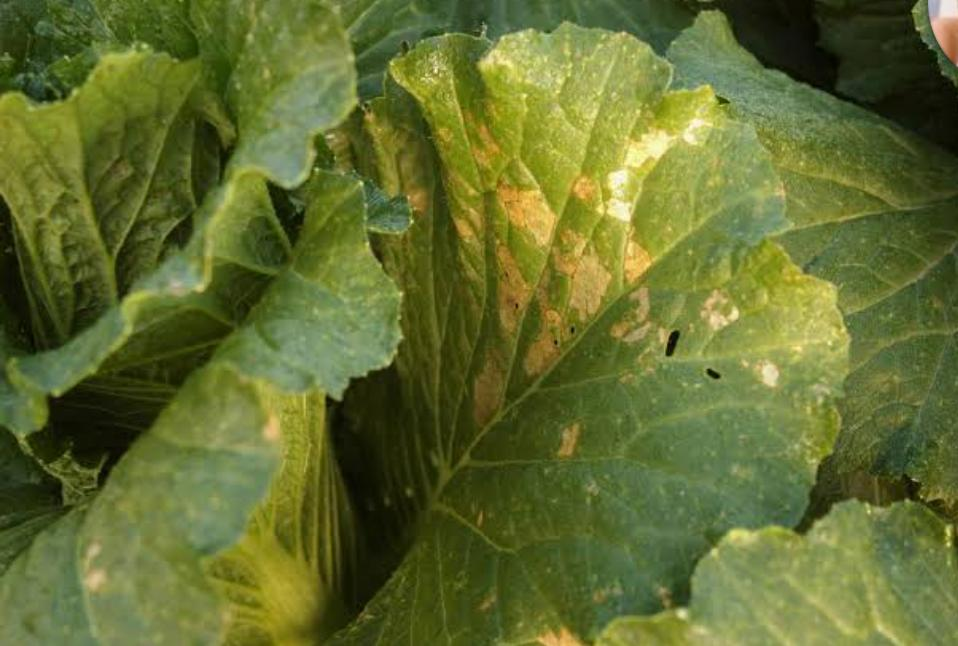Bok-Choy-Diseased: (349, 15, 833, 598)
